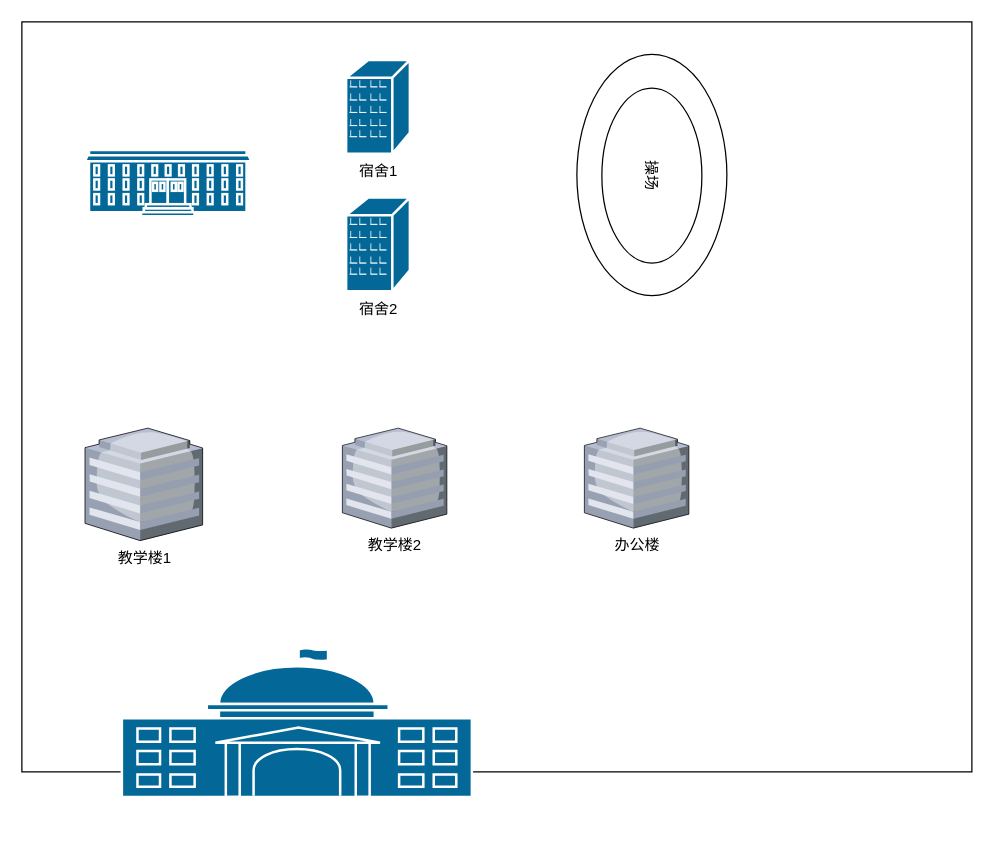
This 994x845 diagram has some shape labels left out. Here are the shapes that lost their labels. From the top down, the centre of each, then its label:
the point at 167,182: 食堂
the point at 296,721: 校门及保卫室
